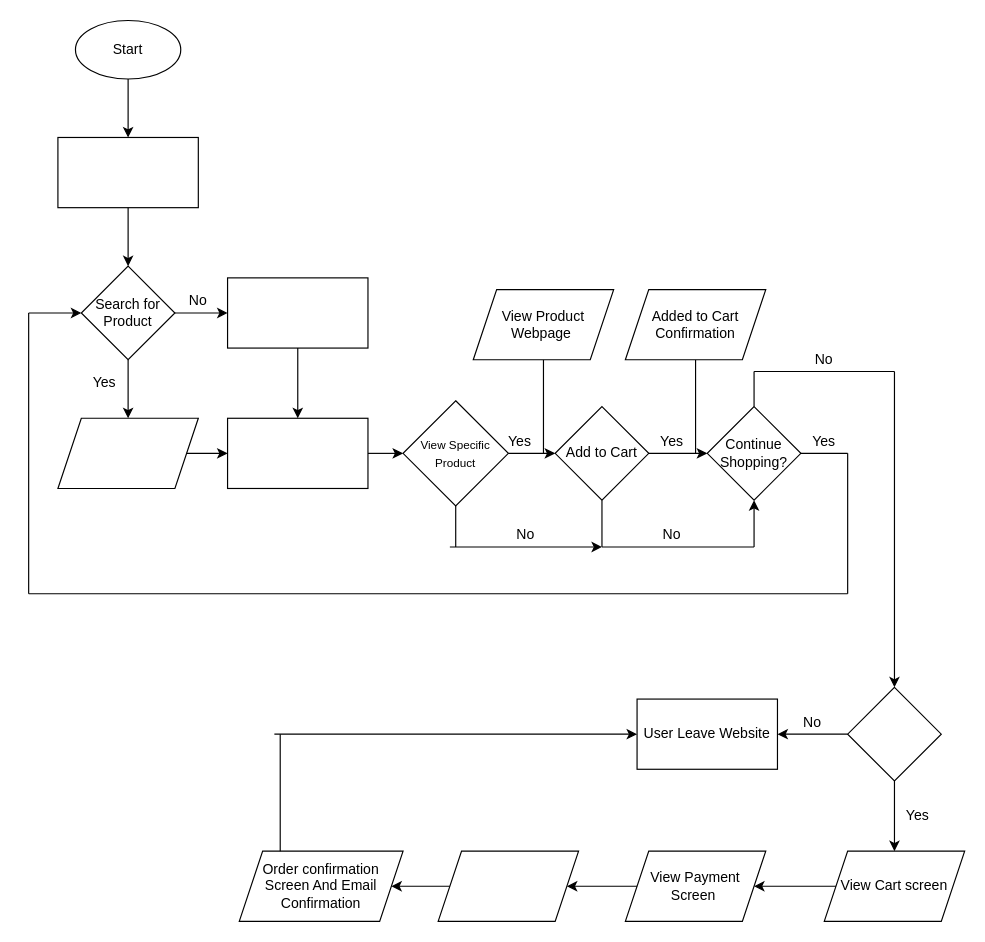
Image size: 985x942. Some labels were removed from this diagram. The shapes that lost their labels are listed below. From the top down, each one's box as (x1, y1, x2, y2) in pixels, then its label:
(57, 136, 198, 208): User Enters the Website
(226, 277, 368, 348): Explore product on Home Page
(57, 417, 198, 488): User Input
(226, 417, 368, 488): User Look Over Product
(846, 686, 941, 781): Checkout?
(437, 850, 579, 921): Input Payment Information
